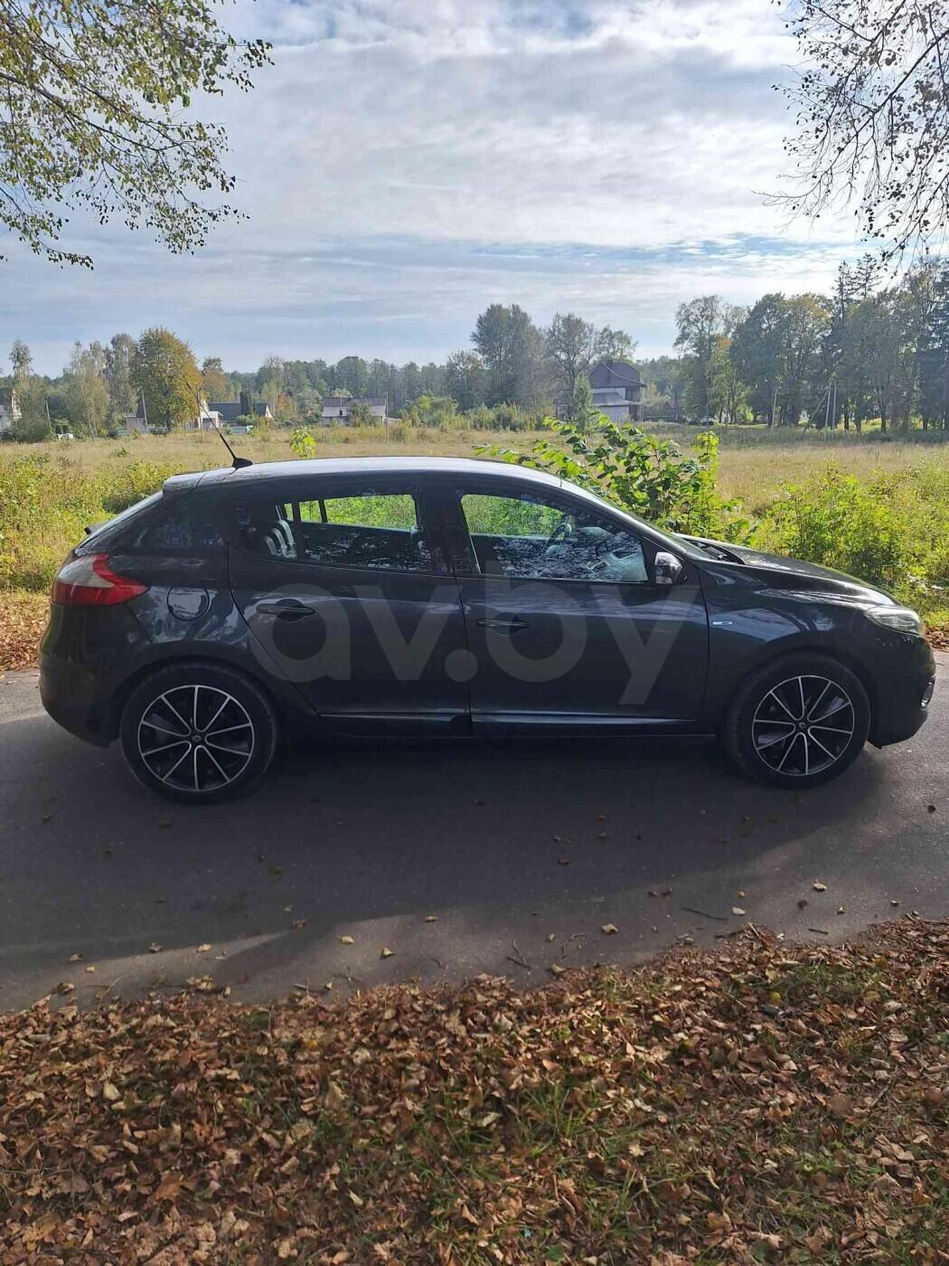Megane_2012-2014: (42, 452, 935, 803)
